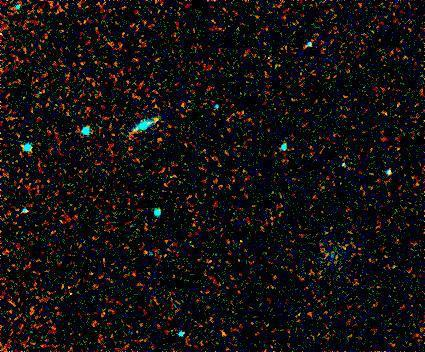star: (135, 106, 165, 136)
